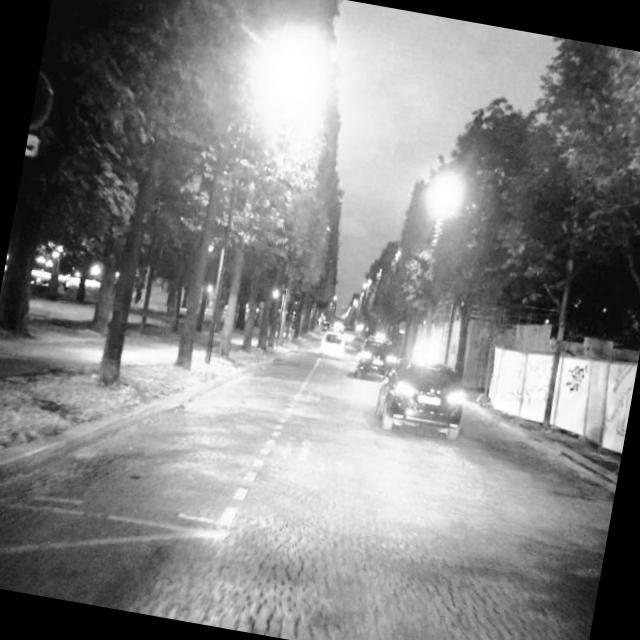Sign: (28, 68, 58, 134), (24, 134, 40, 156)
Tree: (82, 0, 212, 394)
